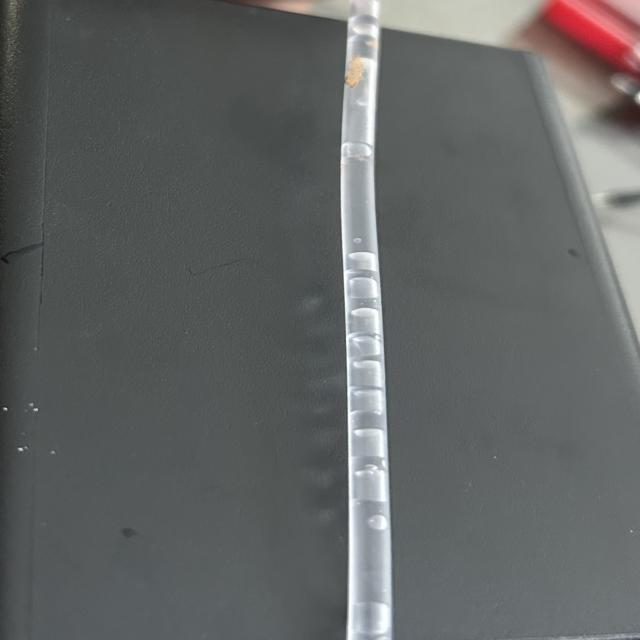bubble: (341, 50, 386, 107), (346, 589, 396, 640), (342, 422, 398, 465), (342, 466, 402, 503), (340, 358, 390, 387), (332, 134, 374, 168), (341, 9, 388, 39), (338, 247, 385, 276), (350, 301, 384, 334), (351, 392, 391, 420), (349, 230, 370, 252), (372, 514, 391, 538)
